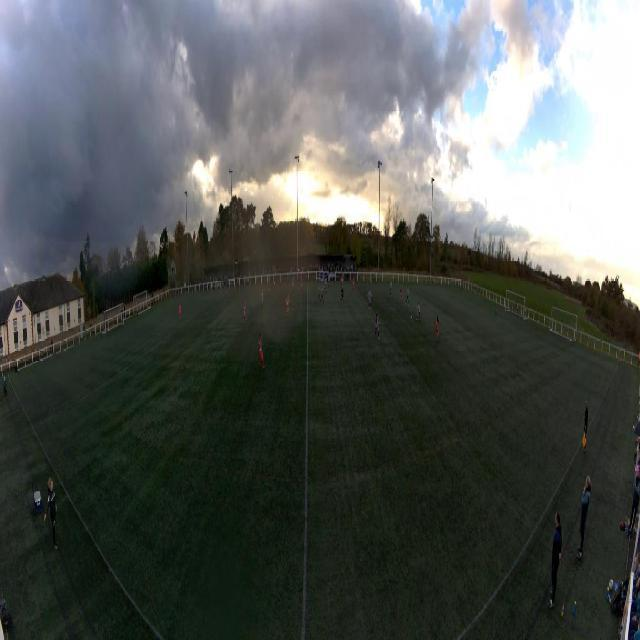ball: (410, 315, 412, 319)
player: (259, 333, 265, 371), (374, 311, 380, 342), (435, 316, 440, 343), (366, 287, 372, 309), (416, 302, 422, 323), (285, 294, 290, 316), (243, 297, 247, 323), (406, 286, 410, 306), (321, 285, 325, 305), (318, 284, 322, 303), (340, 286, 344, 304), (327, 272, 331, 289), (340, 273, 344, 289), (351, 277, 355, 292), (400, 286, 403, 304), (179, 303, 182, 320), (389, 282, 392, 298), (494, 298, 497, 314), (261, 291, 264, 306), (370, 276, 373, 291), (291, 278, 294, 290), (300, 279, 303, 291), (324, 282, 327, 294), (268, 284, 271, 295)
